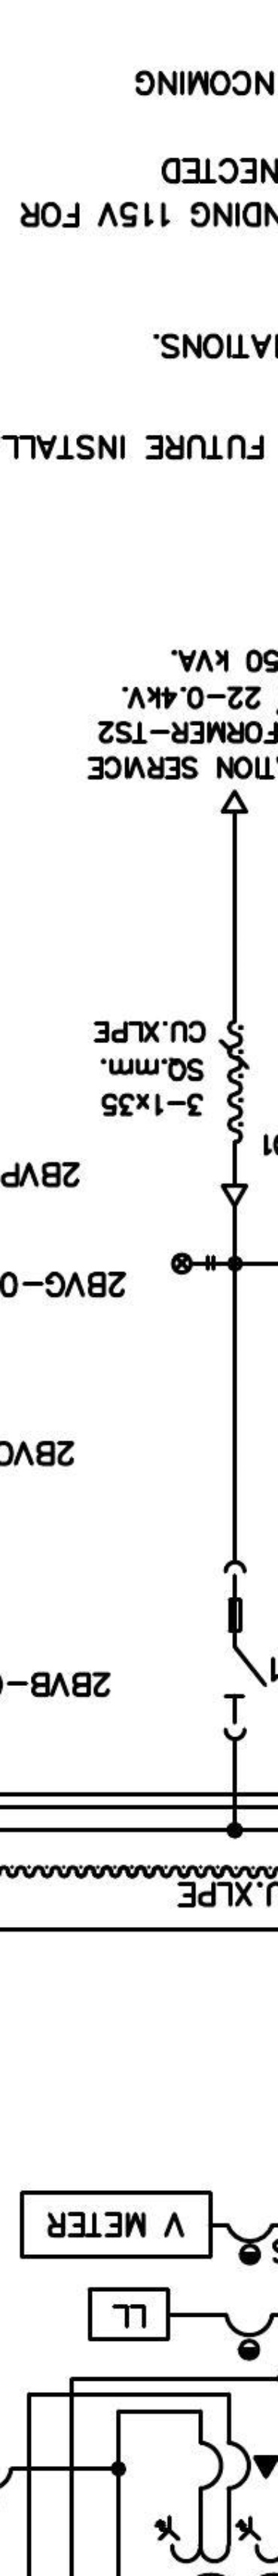22_ds: (222, 1559, 268, 1741)
22_ll: (169, 1252, 215, 1276)
LL: (87, 2285, 171, 2343)
terminator_single: (219, 1181, 250, 1209), (219, 789, 250, 815)
v_m_digital: (18, 2188, 214, 2261)
